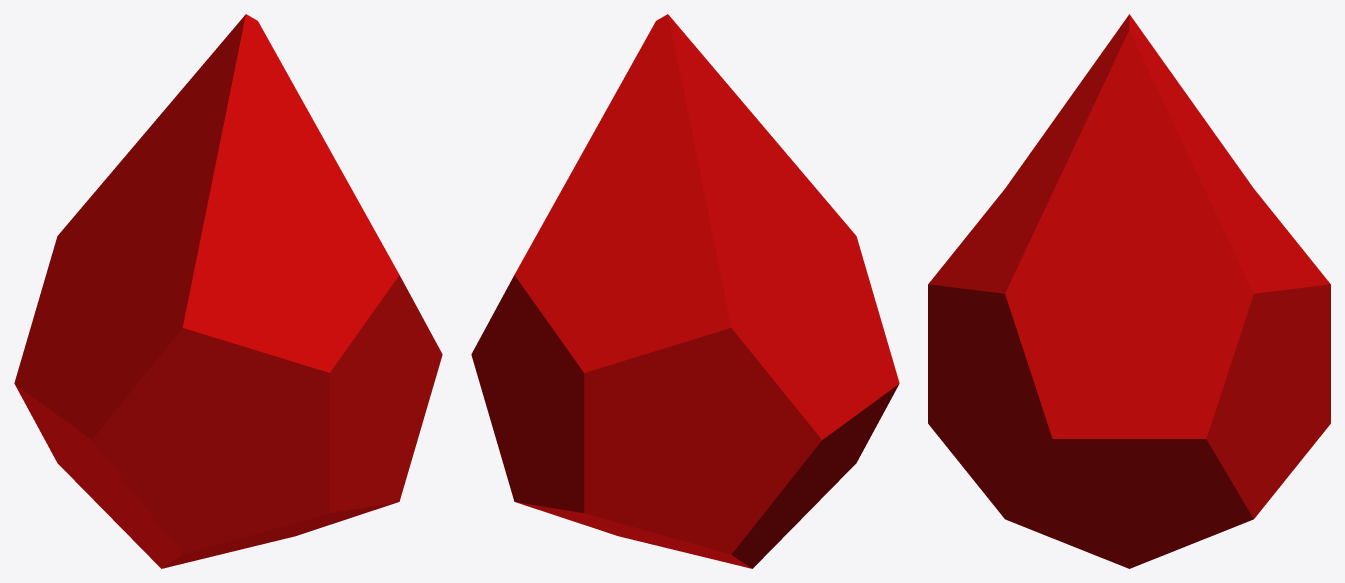
The model's file is crystal-RED.fbx.
3 views of the same model, side by side, from view 1: azimuth 30°, elevation 25°; view 2: azimuth 150°, elevation 25°; view 3: azimuth 270°, elevation 25° (orthographic).
Visible parts, largest first — view 1: Empty_Mesh; view 2: Empty_Mesh; view 3: Empty_Mesh.
Part boxes in pixels (box(x1,y1,x2,y2)): Empty_Mesh: box(14, 14, 442, 568); Empty_Mesh: box(471, 14, 899, 568); Empty_Mesh: box(928, 14, 1330, 568).
Bounding box in the file's own units: 187 × 272 × 187.
